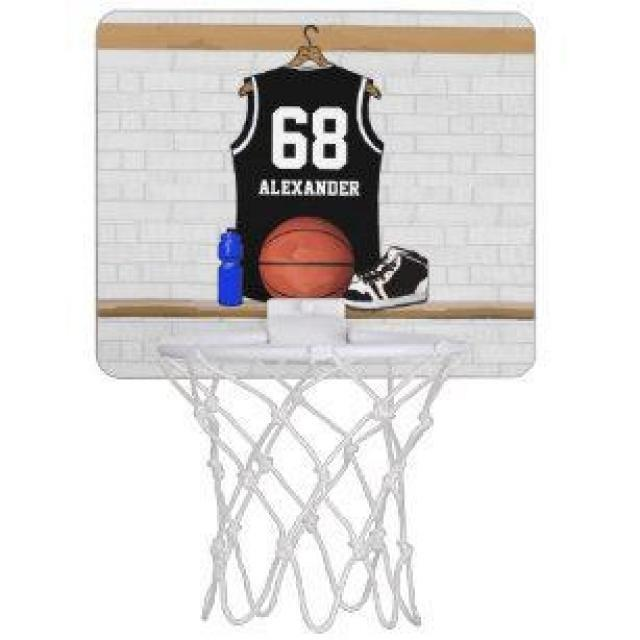Basketball: (260, 217, 356, 299)
hoop: (156, 338, 470, 632)
